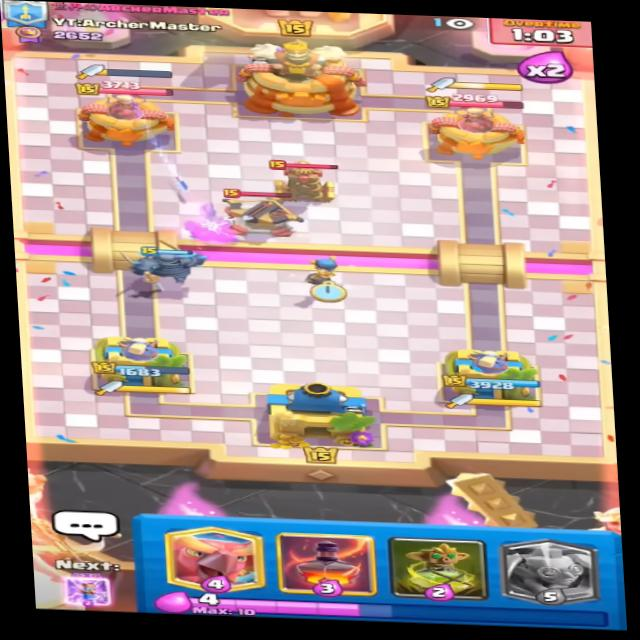Tesla: (269, 160, 346, 206)
Xbow: (207, 186, 304, 243)
